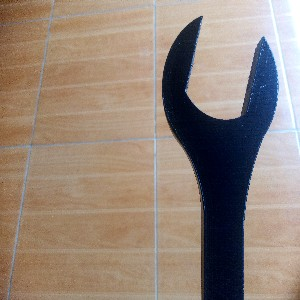spanner: (160, 14, 280, 300)
